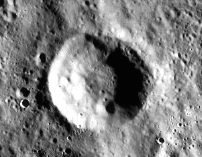crater: (33, 20, 190, 152)
